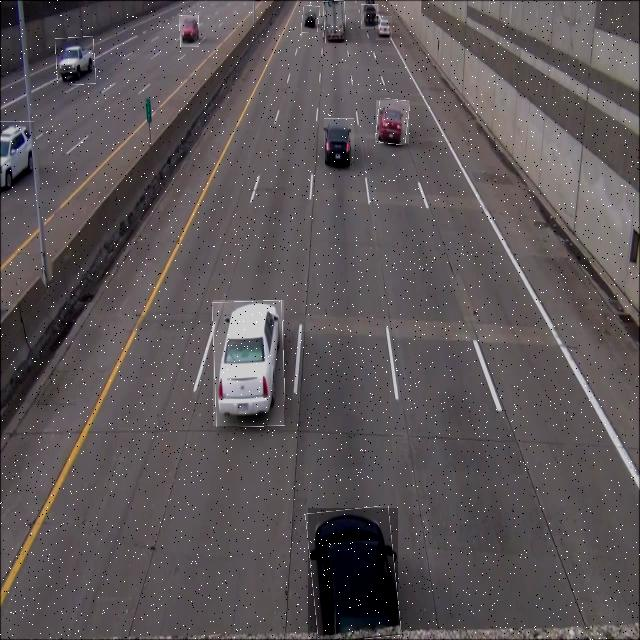Car: (308, 508, 398, 640), (213, 300, 284, 426), (0, 121, 34, 186), (324, 118, 354, 169), (376, 100, 409, 144), (180, 15, 199, 47), (302, 6, 319, 33), (362, 4, 379, 29), (376, 16, 392, 40)
Truck: (56, 36, 96, 85), (323, 0, 345, 43)
